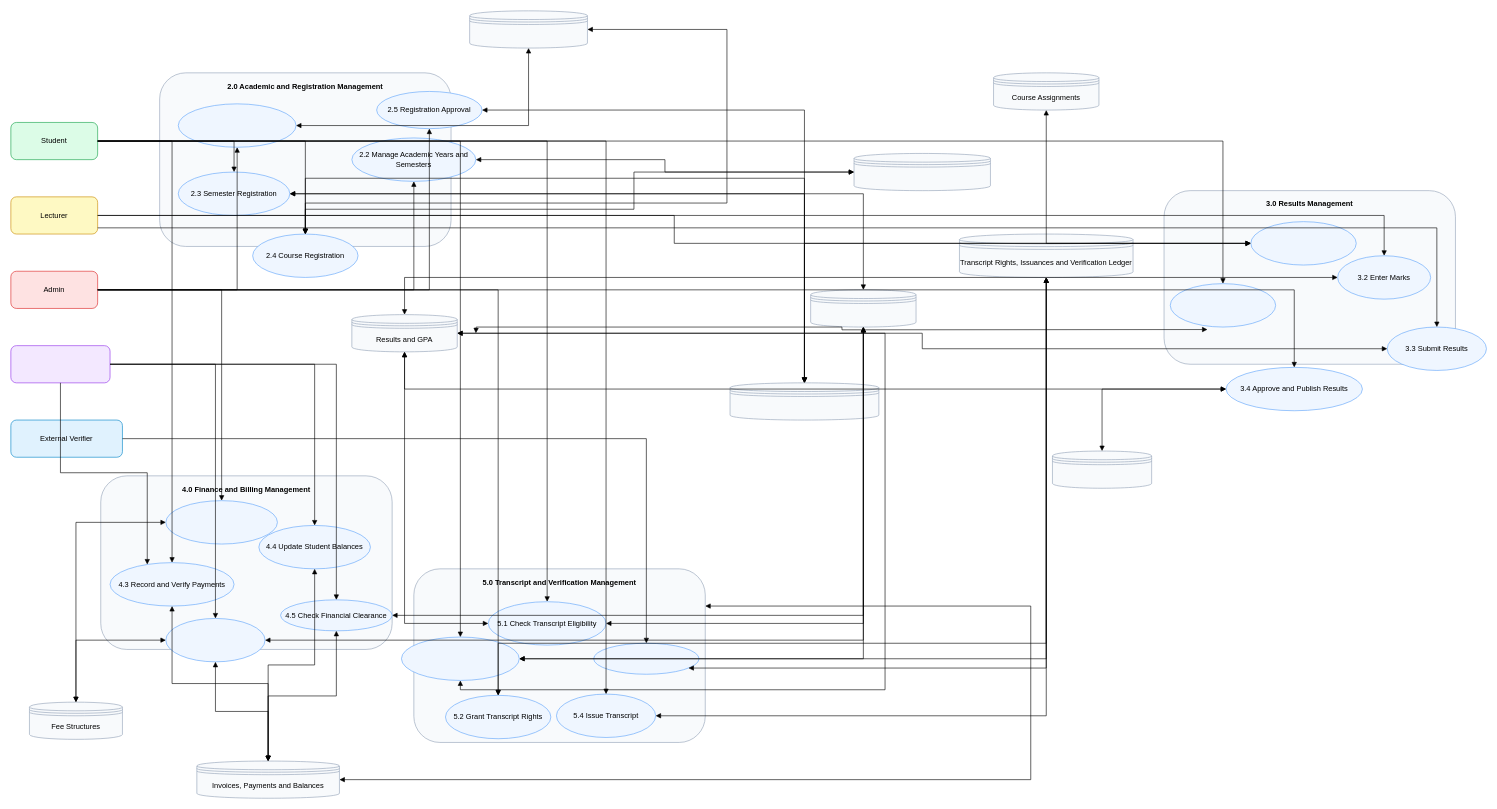
This 1497x809 diagram has some shape labels left out. The centre of each missing label's shape, as x and y in pixels:
2.1 Manage Programs and Courses: the point at 237,125
3.1 View Assigned Courses: the point at 1303,243
3.5 Compute GPA and Standing: the point at 1223,305
4.1 Configure Fee Structure: the point at 221,522
4.2 Generate Invoices: the point at 215,640
5.3 Build Transcript Snapshot: the point at 460,658
5.5 Verify Transcript Authenticity: the point at 646,658
Academic Years and Semesters: the point at 921,172
Finance Staff: the point at 60,364
Programs and Courses: the point at 528,29
Results Audit: the point at 1102,469
Semester and Course Registrations: the point at 804,401
Student Records: the point at 863,308
